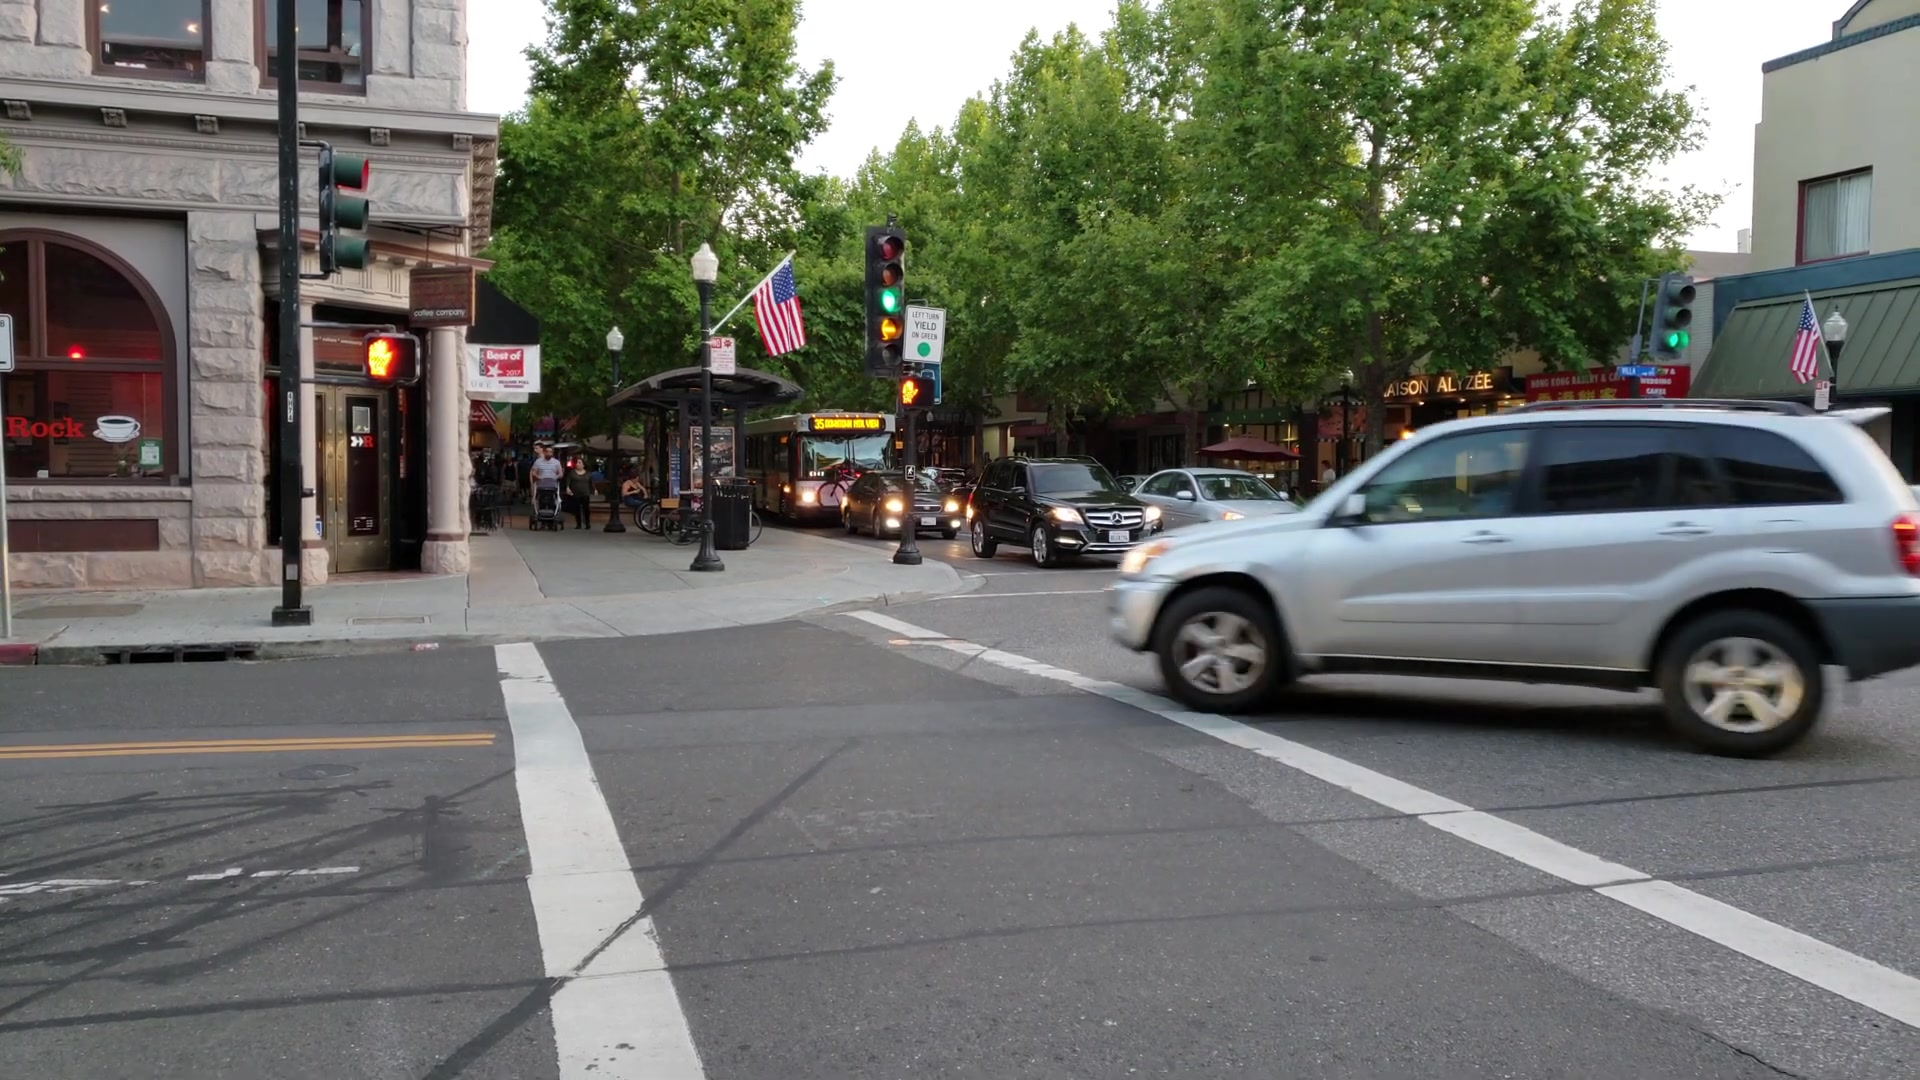vehicle: (1106, 396, 1913, 760), (959, 459, 1163, 570), (742, 411, 899, 517), (837, 469, 957, 537)
